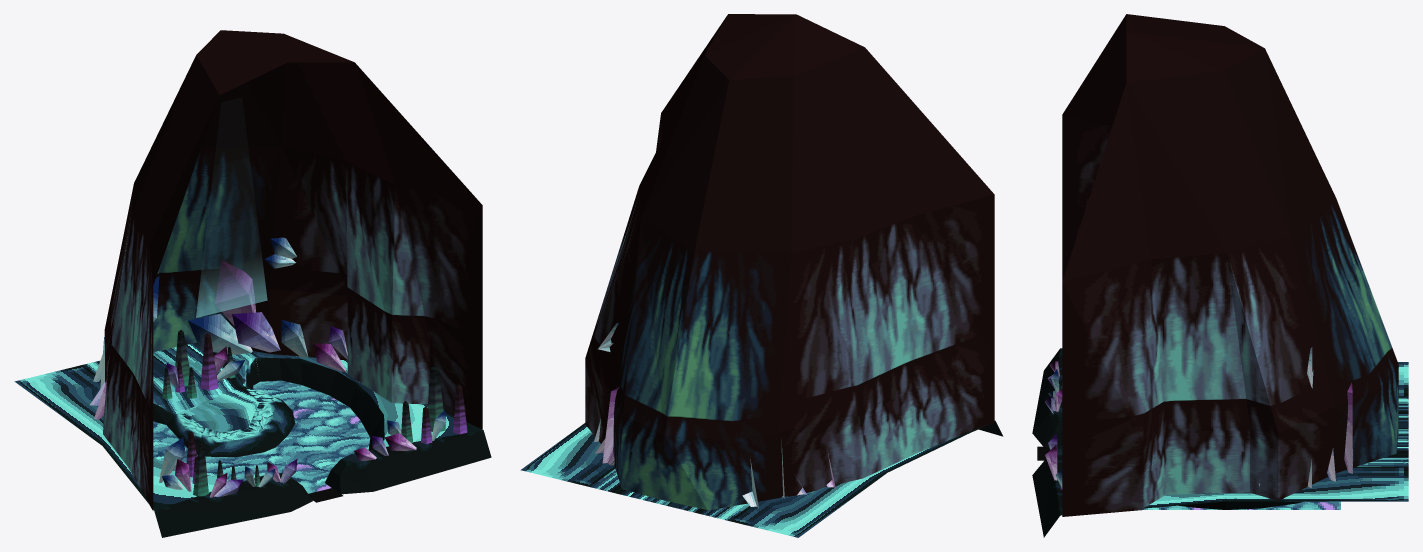
The picture shows the model from 3 angles, left to right: view 1: azimuth 30°, elevation 25°; view 2: azimuth 150°, elevation 25°; view 3: azimuth 270°, elevation 25°; orthographic projection. The views are drawn at different scales.
Parts seen in each view (by area): view 1: doukutu_01; view 2: doukutu_01; view 3: doukutu_01.
Part boxes in pixels (<box>): doukutu_01: <box>14,30,491,537</box>; doukutu_01: <box>520,14,1003,537</box>; doukutu_01: <box>1032,14,1408,537</box>.
Size of the model in its own units: 6 by 7.21 by 5.7.
Materials: 12 (12 with a texture image).
